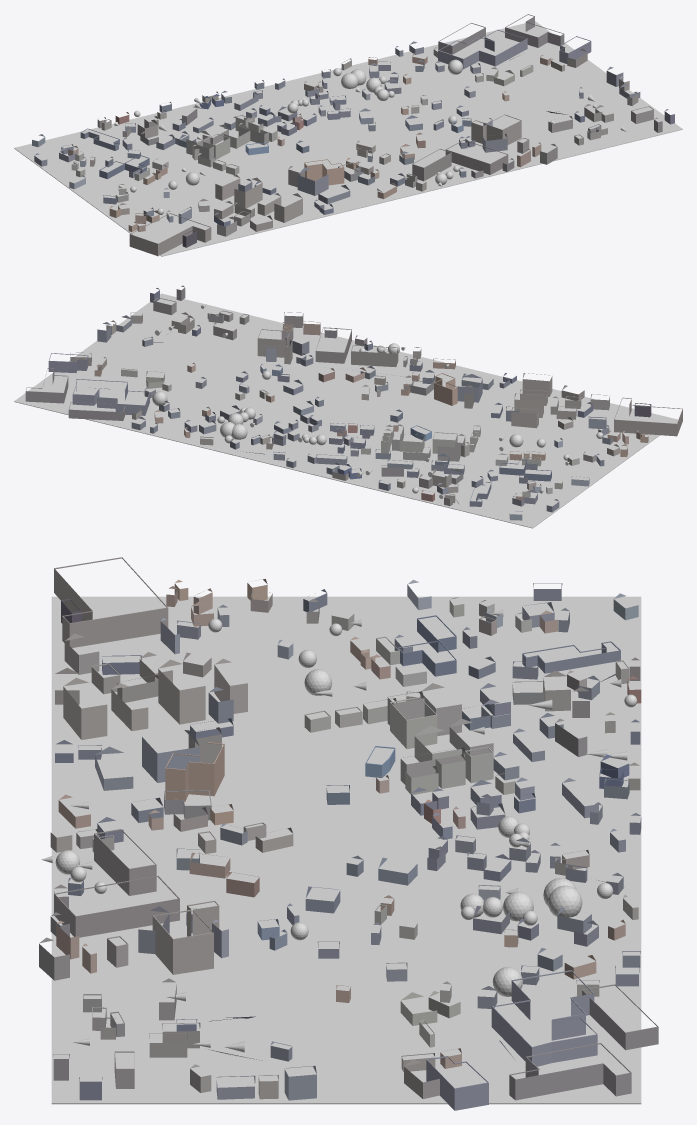
Rendered from scene_2181cbc3-bc25-4f28-b723-aa46965b1900.glb.
The picture shows the model from 3 angles, top to bottom: view 1: azimuth 30°, elevation 25°; view 2: azimuth 150°, elevation 25°; view 3: azimuth 270°, elevation 25°; orthographic projection. The views are drawn at different scales.
Parts seen in each view (by area): view 1: Ground_Base, BLD-002, BLD-001, BLD-007, BLD-004, BLD-003, BLD-008, BLD-006, BLD-016, BLD-011, BLD-005, BLD-012 (+2 smaller); view 2: Ground_Base, BLD-001, BLD-002, BLD-006, BLD-007, BLD-005, BLD-004, BLD-008, BLD-013, BLD-003, BLD-012, BLD-018 (+3 smaller); view 3: Ground_Base, BLD-002, BLD-001, BLD-007, BLD-004, BLD-003, BLD-008, BLD-006, BLD-016, BLD-012, BLD-018, BLD-013 (+10 smaller).
Boxes of the visible parts, bbox=[...] form: Ground_Base: bbox=[14, 21, 682, 256]; BLD-002: bbox=[438, 29, 527, 69]; BLD-001: bbox=[129, 213, 211, 256]; BLD-007: bbox=[471, 114, 521, 144]; BLD-004: bbox=[505, 14, 564, 47]; BLD-003: bbox=[445, 140, 508, 174]; BLD-008: bbox=[304, 159, 344, 185]; BLD-006: bbox=[412, 148, 451, 181]; BLD-016: bbox=[234, 177, 262, 208]; BLD-011: bbox=[297, 167, 328, 195]; BLD-005: bbox=[438, 23, 485, 54]; BLD-012: bbox=[274, 193, 302, 222]; Ground_Base: bbox=[14, 293, 678, 528]; BLD-001: bbox=[614, 397, 682, 436]; BLD-002: bbox=[72, 379, 149, 415]; BLD-006: bbox=[351, 345, 398, 366]; BLD-007: bbox=[257, 329, 292, 364]; BLD-005: bbox=[68, 402, 125, 420]; BLD-004: bbox=[25, 368, 68, 403]; BLD-008: bbox=[434, 373, 457, 405]; BLD-013: bbox=[48, 353, 88, 372]; BLD-003: bbox=[315, 327, 351, 363]; BLD-012: bbox=[522, 373, 552, 396]; BLD-018: bbox=[499, 459, 551, 481]; Ground_Base: bbox=[51, 596, 641, 1104]; BLD-002: bbox=[491, 970, 597, 1066]; BLD-001: bbox=[54, 557, 168, 647]; BLD-007: bbox=[152, 900, 219, 974]; BLD-004: bbox=[509, 1043, 631, 1100]; BLD-003: bbox=[54, 875, 179, 937]; BLD-008: bbox=[165, 742, 224, 801]; BLD-006: bbox=[94, 829, 156, 895]; BLD-016: bbox=[158, 659, 205, 724]; BLD-012: bbox=[63, 677, 107, 739]; BLD-018: bbox=[397, 615, 456, 676]; BLD-013: bbox=[426, 1056, 488, 1110].
Size of the model in its own units: 429 by 18.56 by 212.
